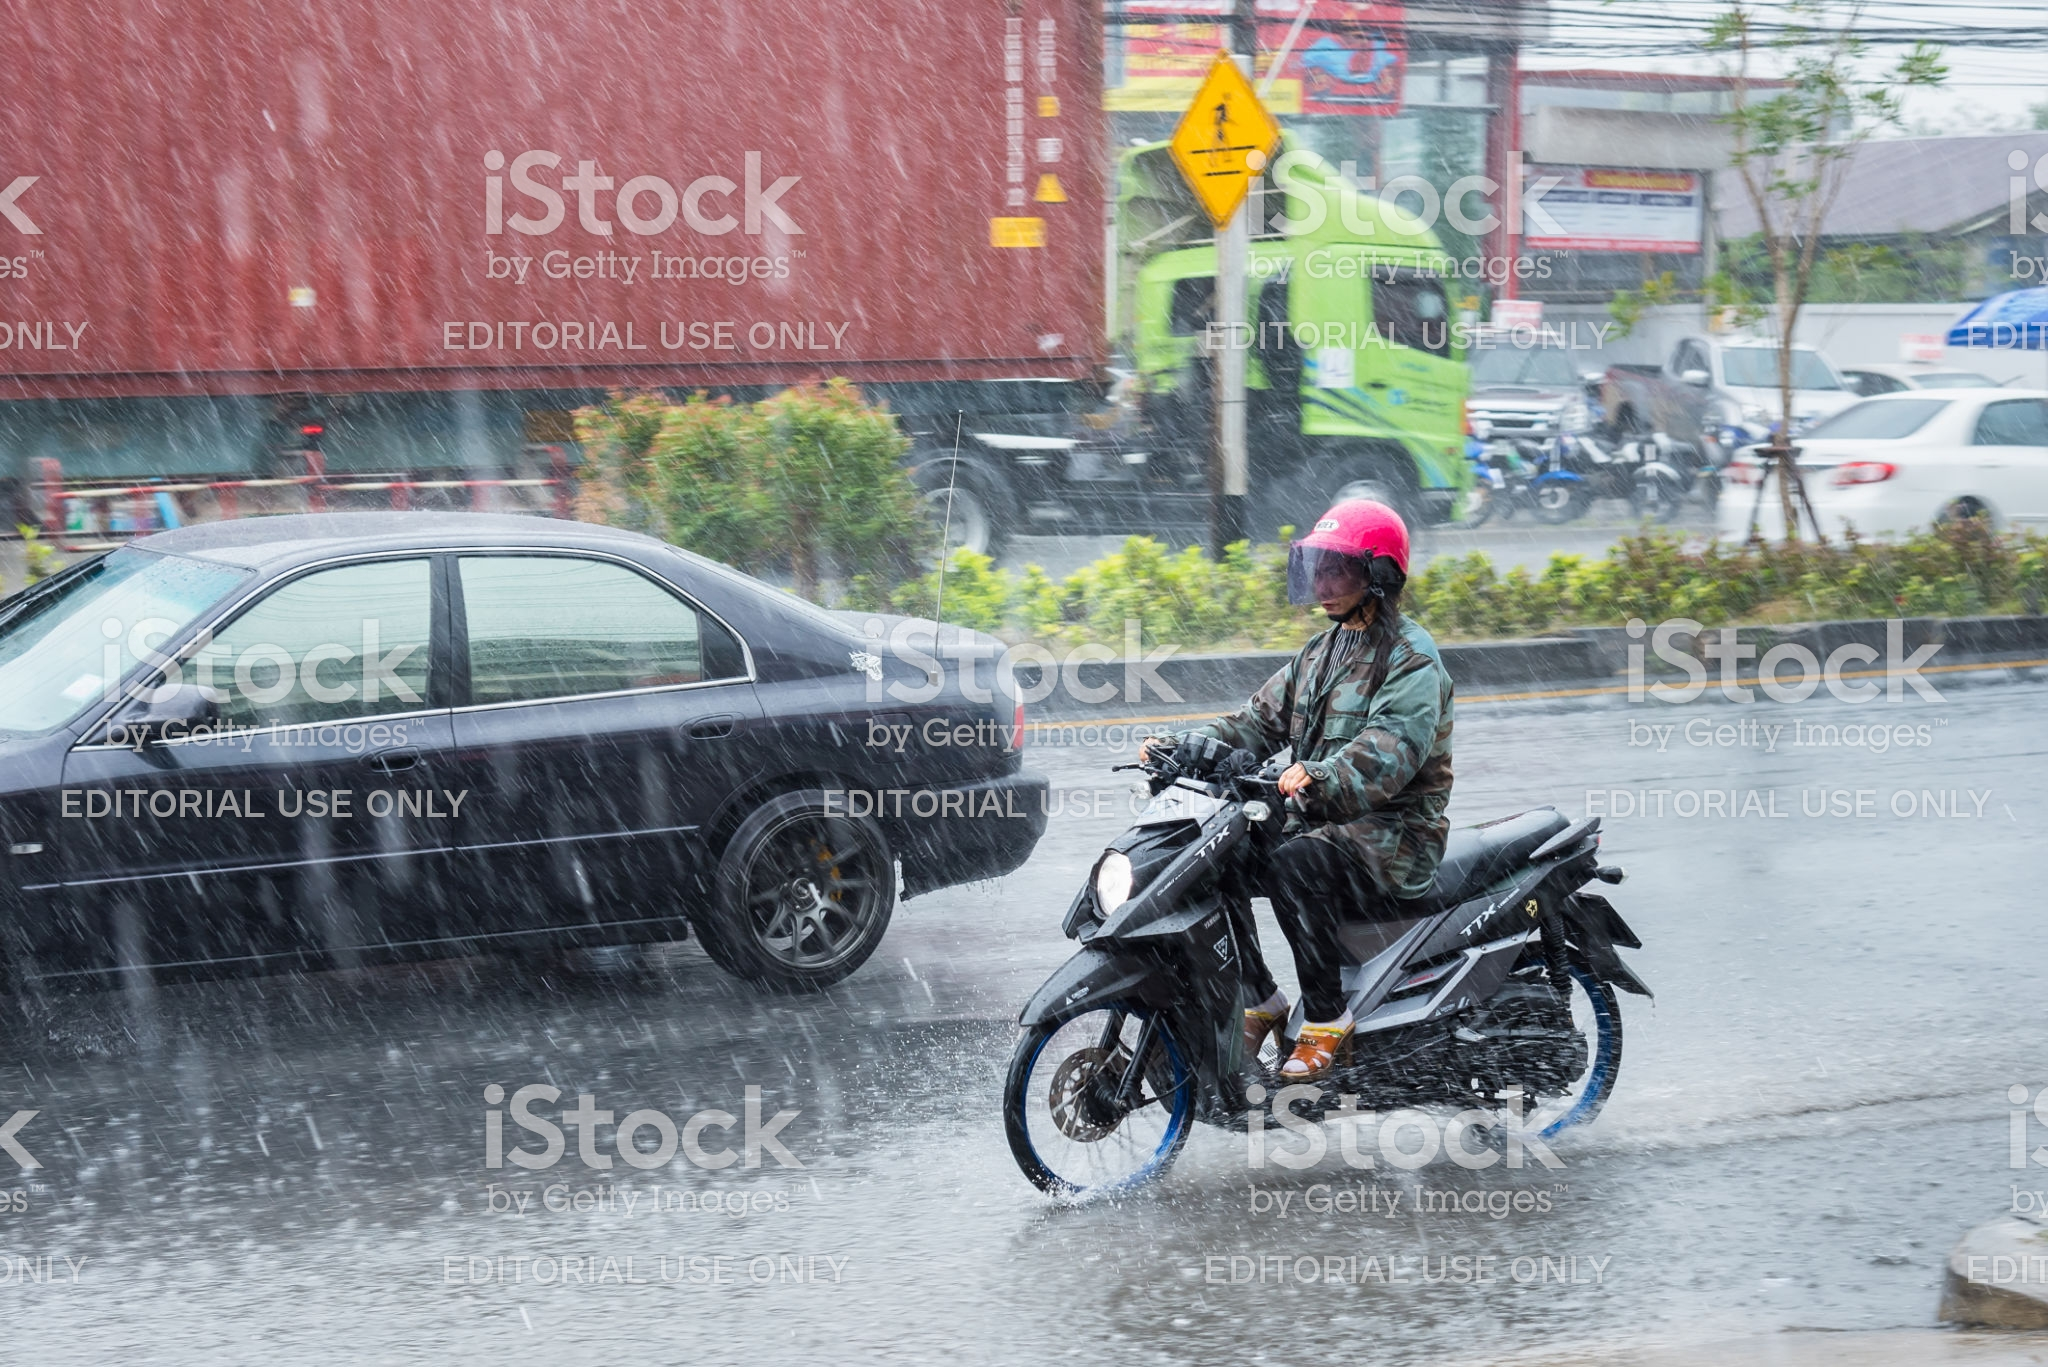helmet: (1286, 505, 1404, 597)
